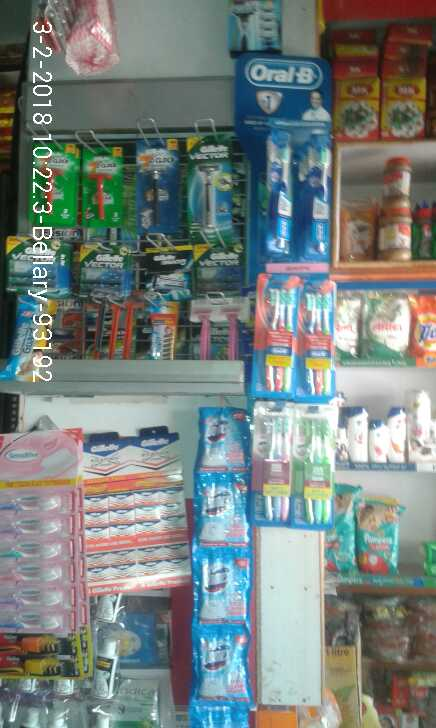beauty: (4, 145, 244, 368)
home: (358, 287, 417, 363)
pharmacy: (256, 132, 350, 263), (256, 279, 342, 396), (257, 415, 333, 519), (351, 497, 401, 575)
